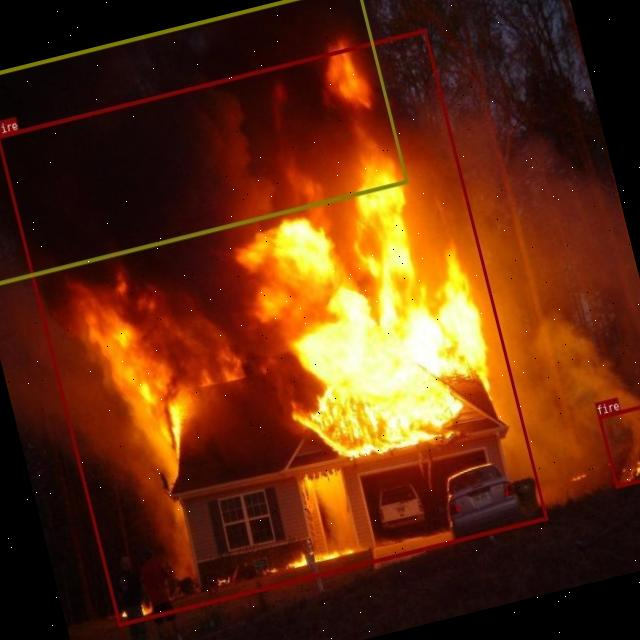fire: (0, 28, 546, 625), (597, 397, 640, 487)
smoke: (0, 0, 407, 289)
